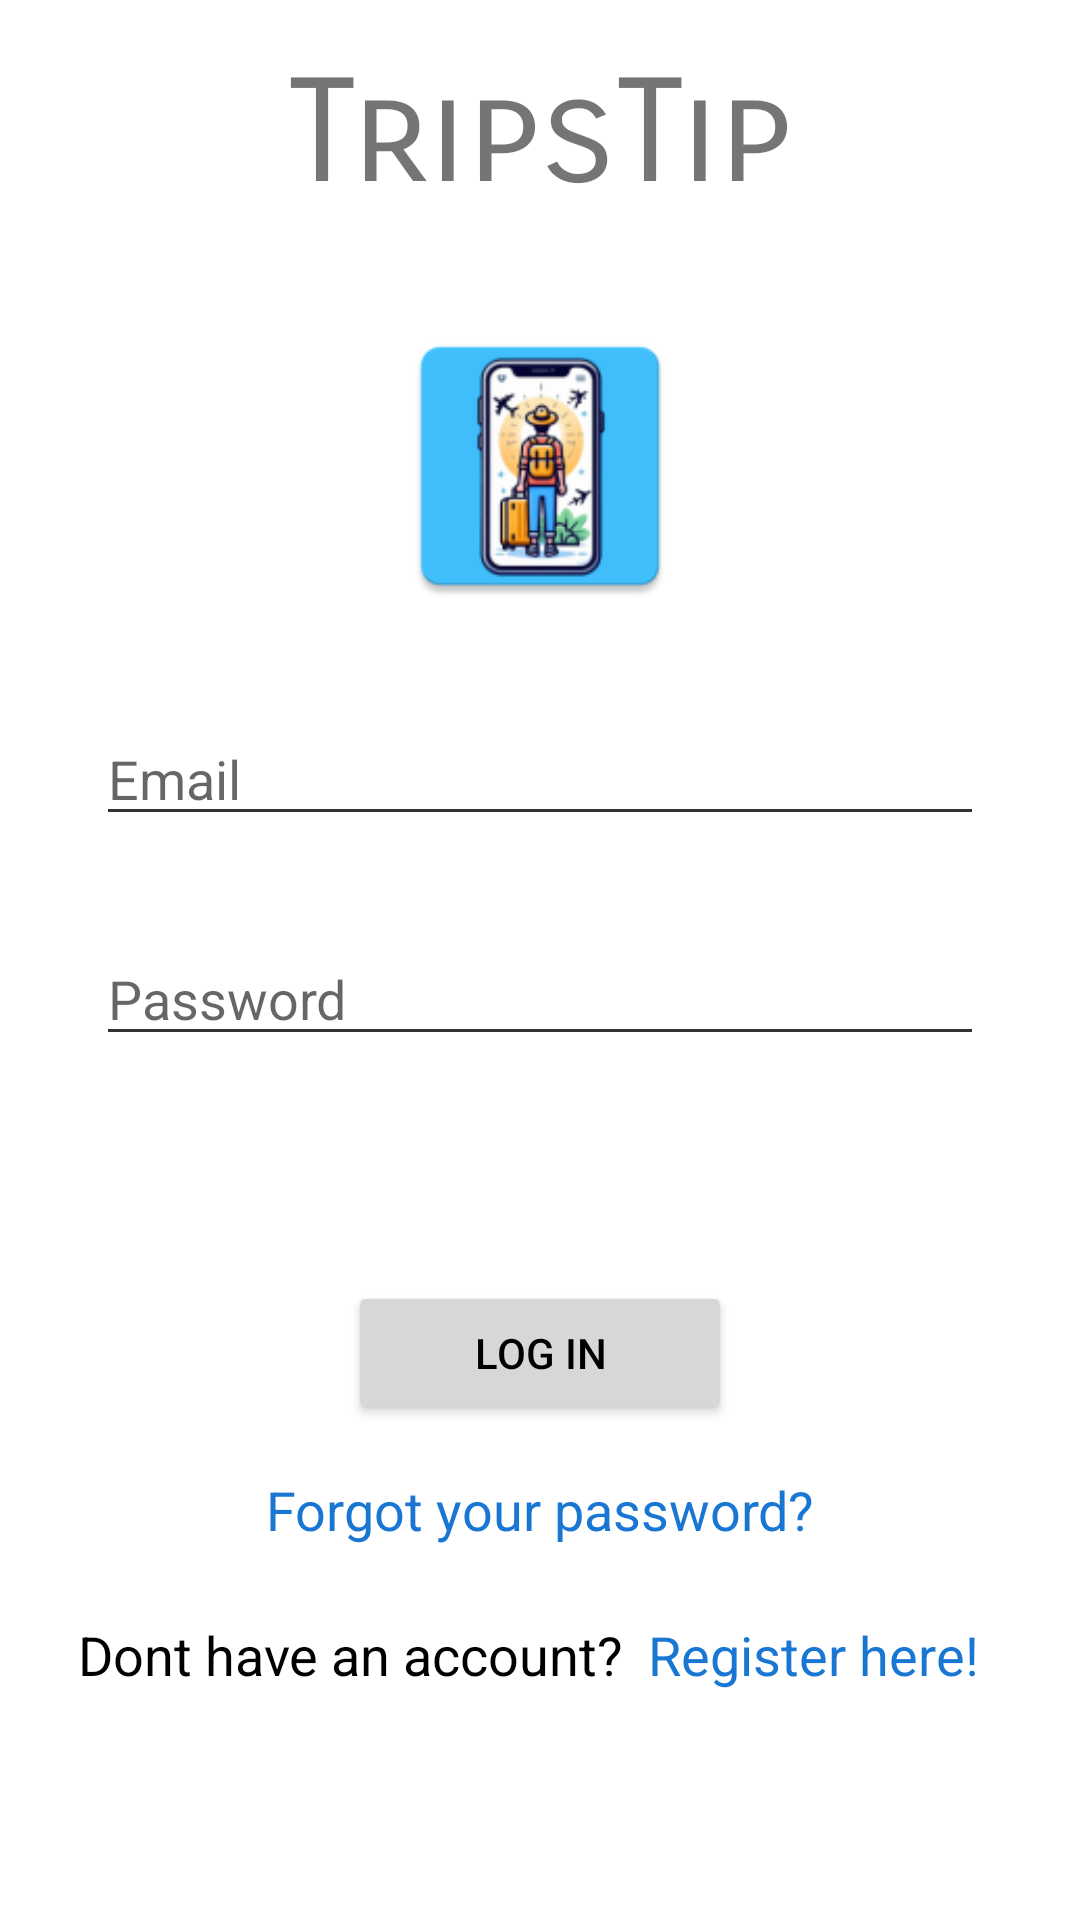

Where icons sit on this 1080*1920 app screen, as (x1, y1, x2, y2):
app: (419, 346, 661, 592)
